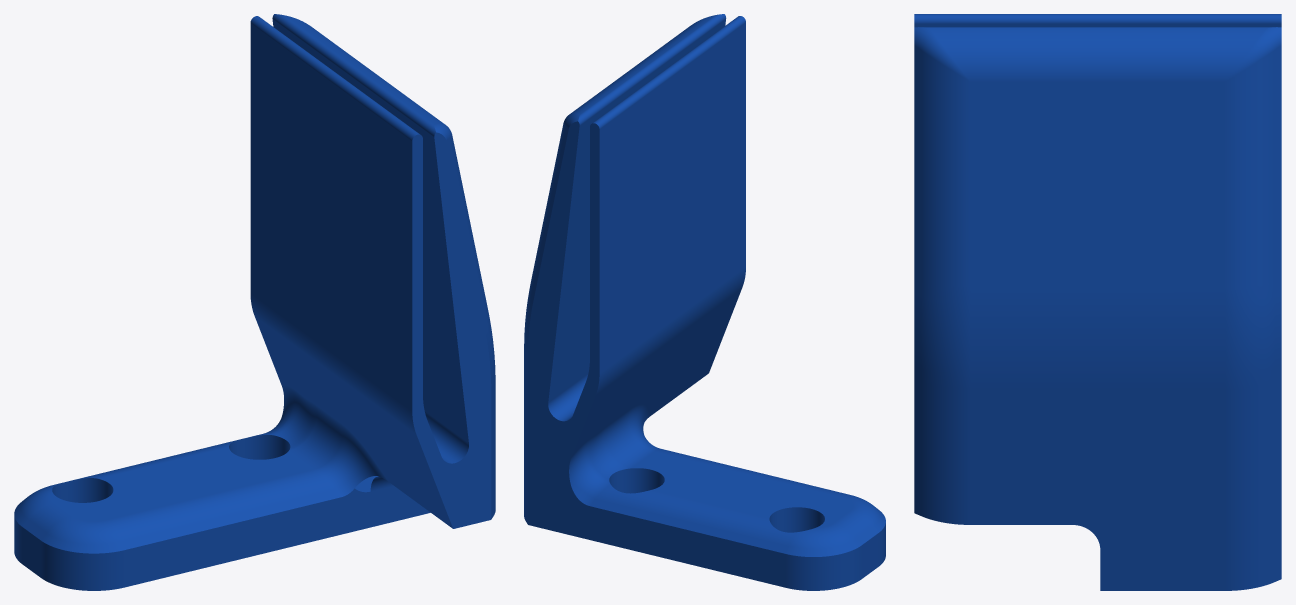
File: Assembly 2 - Gripper finger_2.obj
The picture shows the model from 3 angles, left to right: view 1: azimuth 30°, elevation 25°; view 2: azimuth 150°, elevation 25°; view 3: azimuth 270°, elevation 25°; orthographic projection. The views are drawn at different scales.
Parts seen in each view (by area): view 1: mesh31, mesh57, mesh38, mesh37, mesh29, mesh19, mesh15, mesh30, mesh11, mesh14, mesh32, mesh58 (+14 smaller); view 2: mesh31, mesh43, mesh37, mesh29, mesh19, mesh18, mesh30, mesh7, mesh9, mesh32, mesh58, mesh21 (+15 smaller); view 3: mesh67, mesh46, mesh55, mesh60, mesh62, mesh66, mesh41, mesh51, mesh48, mesh54, mesh32, mesh49 (+13 smaller).
Part boxes in pixels (x1,y1,x2,y2): mesh31: (250, 23, 412, 410); mesh57: (412, 132, 491, 528); mesh38: (124, 486, 430, 587); mesh37: (272, 19, 468, 442); mesh29: (255, 317, 452, 528); mesh19: (50, 447, 313, 521); mesh15: (107, 469, 334, 541); mesh30: (250, 293, 416, 434); mesh11: (41, 541, 124, 590); mesh14: (121, 489, 340, 549); mesh32: (250, 16, 419, 140); mesh58: (272, 14, 435, 136); mesh31: (599, 22, 745, 373); mesh43: (528, 121, 785, 587); mesh37: (548, 19, 725, 402); mesh29: (572, 288, 741, 456); mesh19: (632, 451, 853, 527); mesh18: (595, 484, 795, 545); mesh30: (596, 267, 745, 394); mesh7: (786, 545, 861, 590); mesh9: (590, 499, 788, 553); mesh32: (592, 16, 745, 128); mesh58: (578, 14, 726, 125); mesh21: (605, 410, 653, 468); mesh67: (971, 82, 1224, 287); mesh46: (971, 390, 1224, 590); mesh55: (970, 287, 1225, 389); mesh60: (929, 28, 1265, 81); mesh62: (1225, 51, 1274, 287); mesh66: (921, 51, 970, 287); mesh41: (1225, 381, 1274, 590); mesh51: (921, 381, 970, 524); mesh48: (1225, 296, 1274, 375); mesh54: (921, 296, 970, 375); mesh32: (914, 14, 1281, 23); mesh49: (1274, 45, 1281, 295).
Size of the model in its own units: 0.0507 by 0.0623 by 0.0396.
